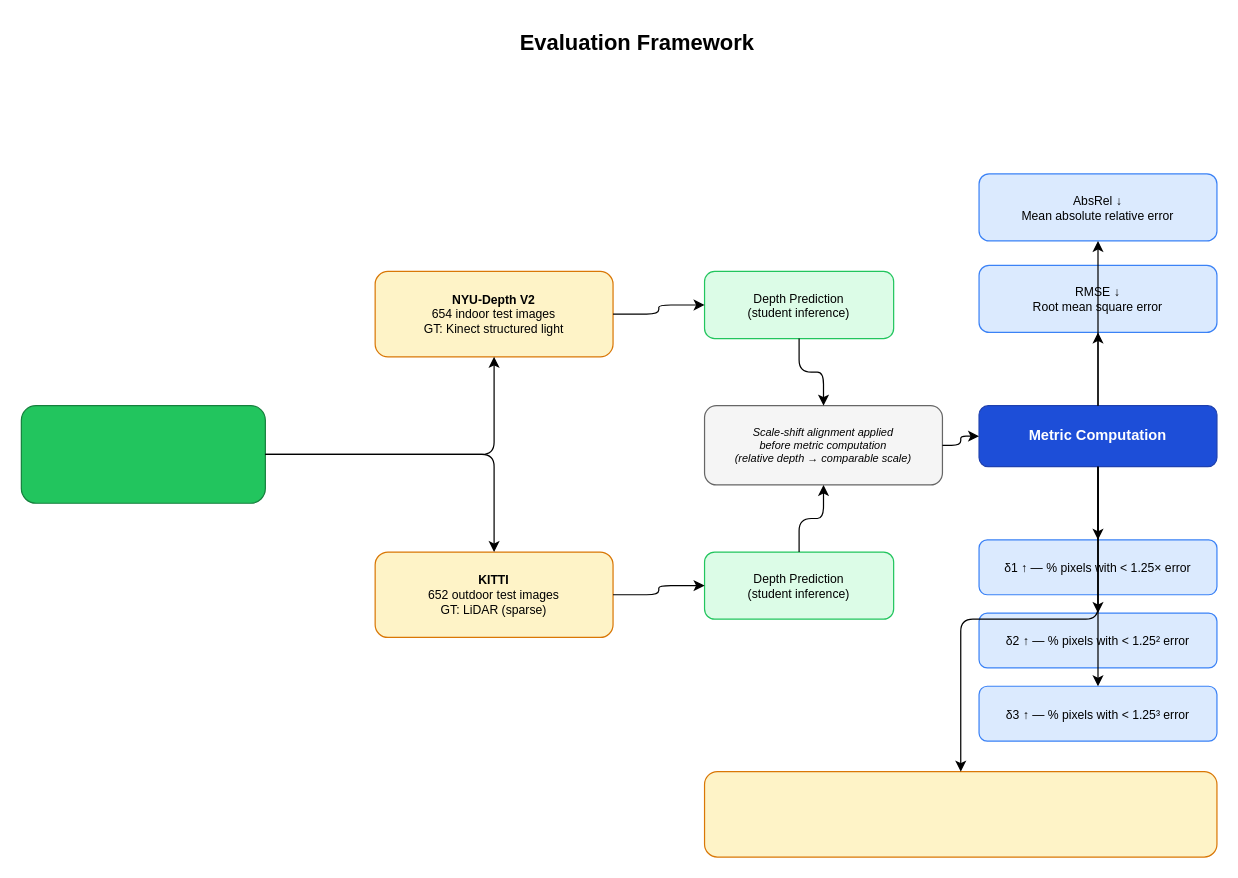
This 1238x878 diagram has some shape labels left out. Each missing label, with the box of its shape:
Comparison Table Ours (ViT-Small) vs. Teacher vs. Depth Anything V2 (paper): (703, 770, 1217, 857)
Trained Student Model ViT-Small + DPT Decoder (25M parameters): (20, 404, 265, 503)
